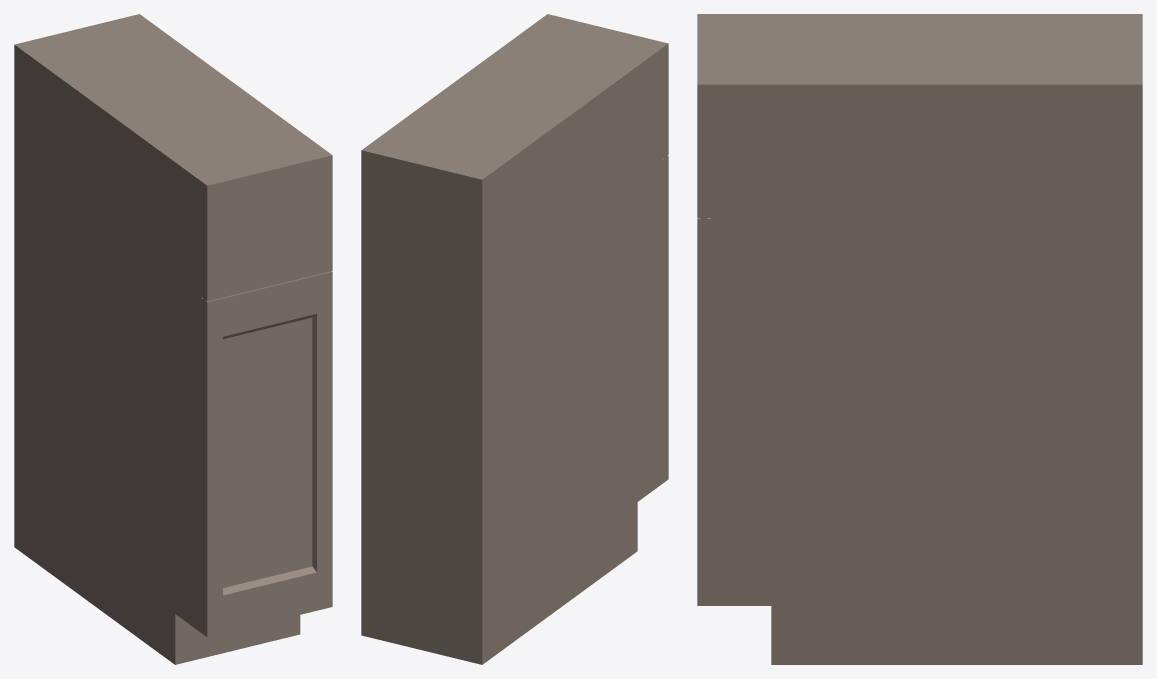
Rendered from Base-Cabinet-Single-Door_W9in_1D.glb.
3 renders of one model, left to right at view 1: azimuth 30°, elevation 25°; view 2: azimuth 150°, elevation 25°; view 3: azimuth 270°, elevation 25°, orthographic. The views are drawn at different scales.
Parts seen in each view (by area): view 1: Base-Cabinet-Single-Door_W9in_1D; view 2: Base-Cabinet-Single-Door_W9in_1D; view 3: Base-Cabinet-Single-Door_W9in_1D.
Part boxes in pixels (x1,y1,x2,y2): Base-Cabinet-Single-Door_W9in_1D: [14, 14, 332, 664]; Base-Cabinet-Single-Door_W9in_1D: [361, 14, 668, 664]; Base-Cabinet-Single-Door_W9in_1D: [697, 14, 1142, 664].
Size of the model in its own units: 0.2286 by 0.8769 by 0.61.
